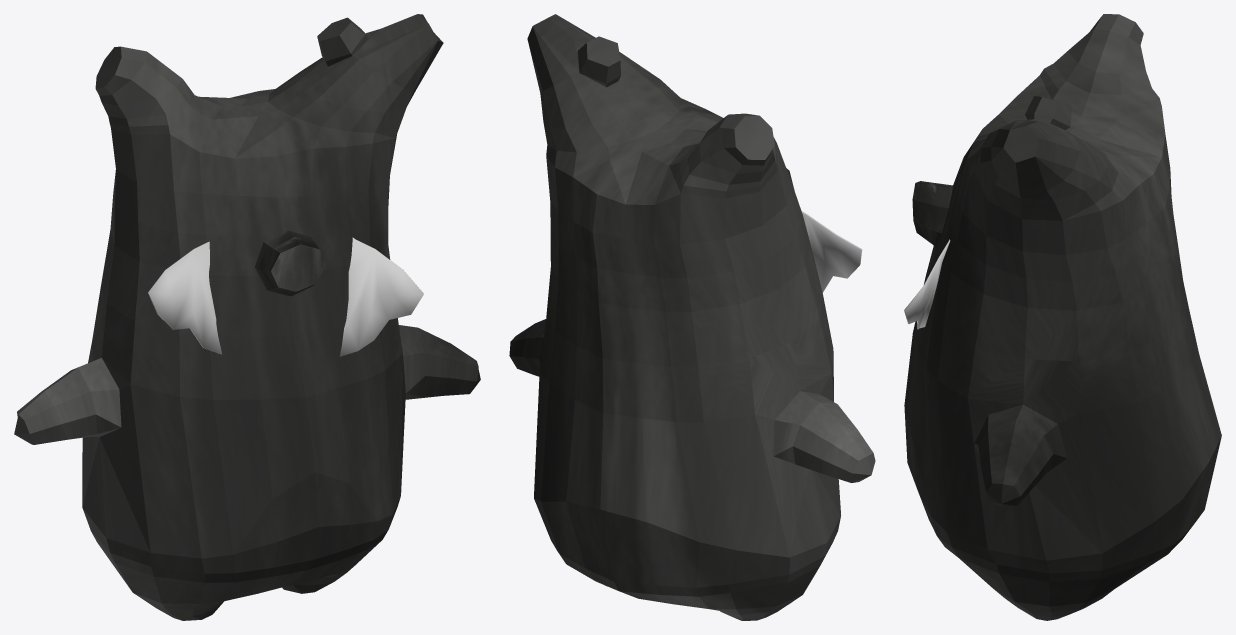
File: frame_0113.obj
The picture shows the model from 3 angles, left to right: view 1: azimuth 30°, elevation 25°; view 2: azimuth 150°, elevation 25°; view 3: azimuth 270°, elevation 25°; orthographic projection. The views are drawn at different scales.
Parts seen in each view (by area): view 1: korok, leaf, nose; view 2: korok, leaf; view 3: korok, nose, leaf.
Boxes of the visible parts, x1=… form: korok: x1=14, y1=14, x2=480, y2=620; leaf: x1=148, y1=237, x2=423, y2=356; nose: x1=255, y1=230, x2=325, y2=296; korok: x1=509, y1=14, x2=875, y2=620; leaf: x1=801, y1=211, x2=862, y2=292; korok: x1=904, y1=14, x2=1221, y2=620; nose: x1=912, y1=181, x2=952, y2=246; leaf: x1=904, y1=239, x2=950, y2=329.
Bounding box in the file's own units: 1.71 × 2.18 × 1.16.
